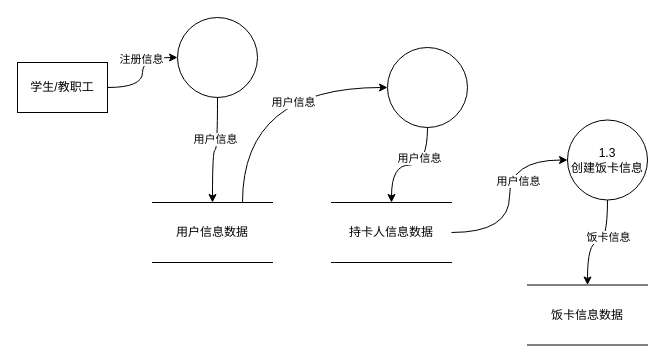
Image size: 665x363. Some labels were removed from this diagram. The centre of each missing label's shape, as x and y in pixels:
1.1 注册账号: point 217,57
1.2 根据用户信息创建用户账户: point 427,87
